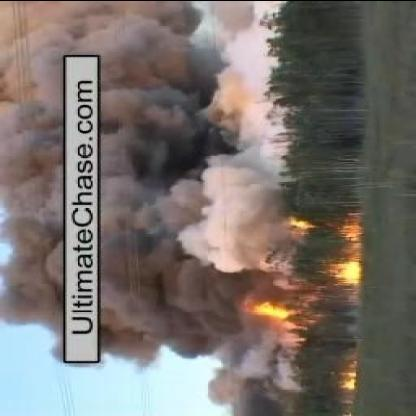-: (103, 52, 240, 354), (5, 44, 60, 320)
foggia-v2-map80-epoch100 - v1 4323: (337, 263, 360, 279), (342, 222, 363, 236)
